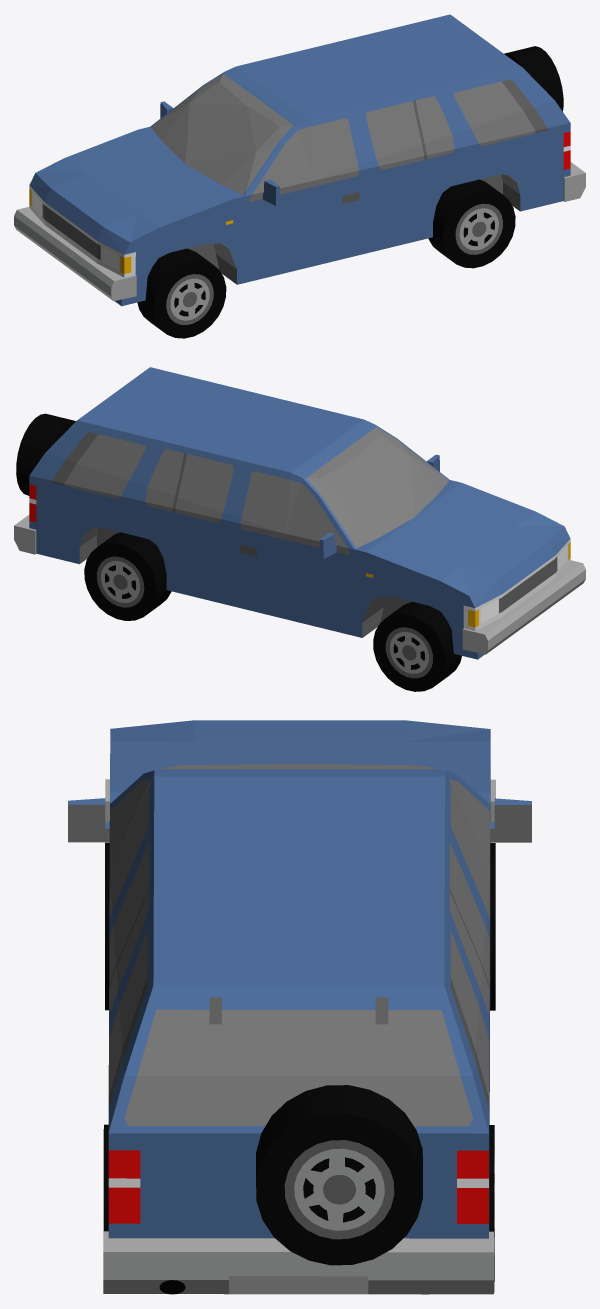
Rendered from nissan_terrano.glb.
3 renders of one model, top to bottom at view 1: azimuth 30°, elevation 25°; view 2: azimuth 150°, elevation 25°; view 3: azimuth 270°, elevation 25°, orthographic. The views are drawn at different scales.
Visible parts, largest first — view 1: Mesh1 Component_1_1 Model, Mesh4 Component_1_1 Model, Mesh3 Component_1_1 Model; view 2: Mesh1 Component_1_1 Model, Mesh5 Component_1_1 Model, Mesh2 Component_1_1 Model; view 3: Mesh1 Component_1_1 Model, Mesh5 Component_1_1 Model, Mesh4 Component_1_1 Model.
Boxes of the visible parts, bbox=[...] form: Mesh1 Component_1_1 Model: bbox=[14, 14, 585, 306]; Mesh4 Component_1_1 Model: bbox=[137, 248, 226, 338]; Mesh3 Component_1_1 Model: bbox=[428, 179, 515, 268]; Mesh1 Component_1_1 Model: bbox=[14, 367, 585, 659]; Mesh5 Component_1_1 Model: bbox=[373, 602, 461, 691]; Mesh2 Component_1_1 Model: bbox=[84, 532, 171, 620]; Mesh1 Component_1_1 Model: bbox=[68, 720, 531, 1294]; Mesh5 Component_1_1 Model: bbox=[490, 843, 495, 1010]; Mesh4 Component_1_1 Model: bbox=[105, 842, 109, 1010].
Bounding box in the file's own units: 4.7 × 1.62 × 1.93.
